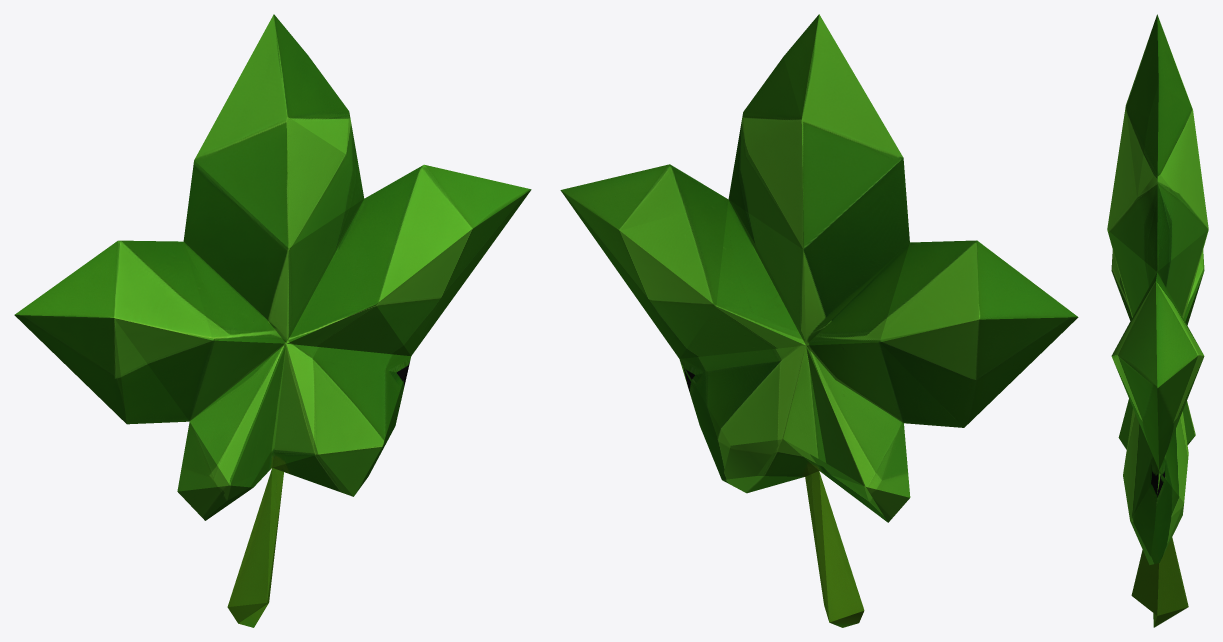
Rendered from Meshy_AI_Ivy_Leaf_Prefab_A_Low_1007154552_texture.fbx.
3 views of the same model, side by side, from view 1: azimuth 30°, elevation 25°; view 2: azimuth 150°, elevation 25°; view 3: azimuth 270°, elevation 25° (orthographic). The views are drawn at different scales.
Parts seen in each view (by area): view 1: output_unwrapped; view 2: output_unwrapped; view 3: output_unwrapped.
Boxes of the visible parts, x1=… form: output_unwrapped: x1=14, y1=14, x2=531, y2=627; output_unwrapped: x1=560, y1=14, x2=1078, y2=627; output_unwrapped: x1=1107, y1=14, x2=1208, y2=627.
Bounding box in the file's own units: 168 × 189 × 27.79.
1 material, 1 textured.
